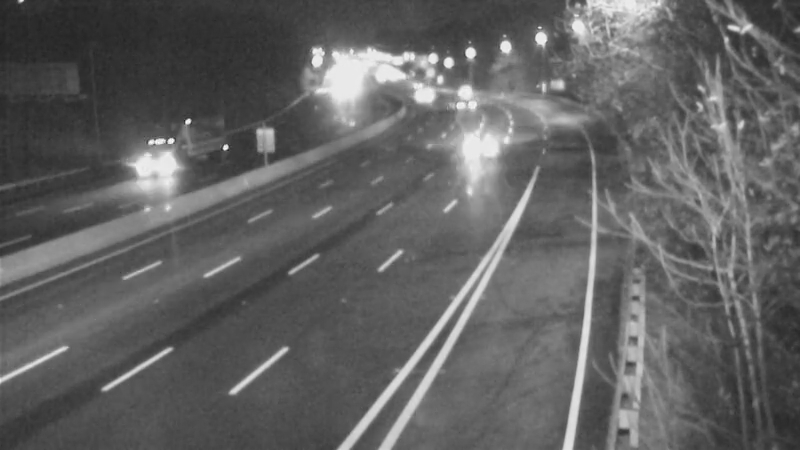vehicle: (106, 126, 186, 206), (397, 68, 447, 118), (438, 65, 488, 115), (459, 124, 509, 174)
